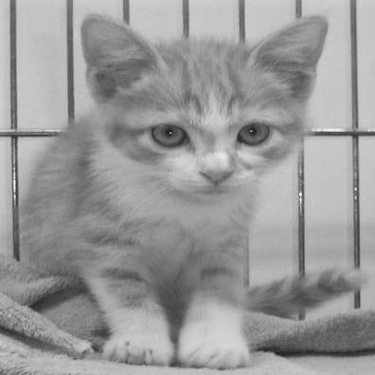cat: (20, 11, 326, 371)
